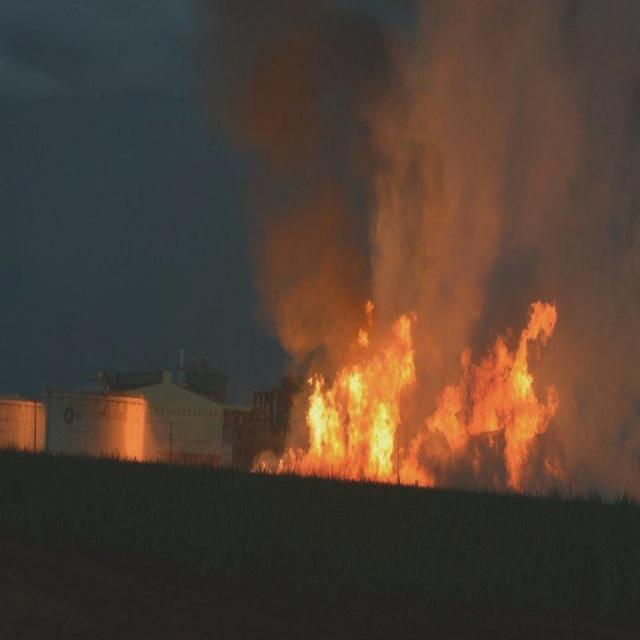Fire: (250, 295, 563, 494)
Smoke: (224, 1, 640, 504)
